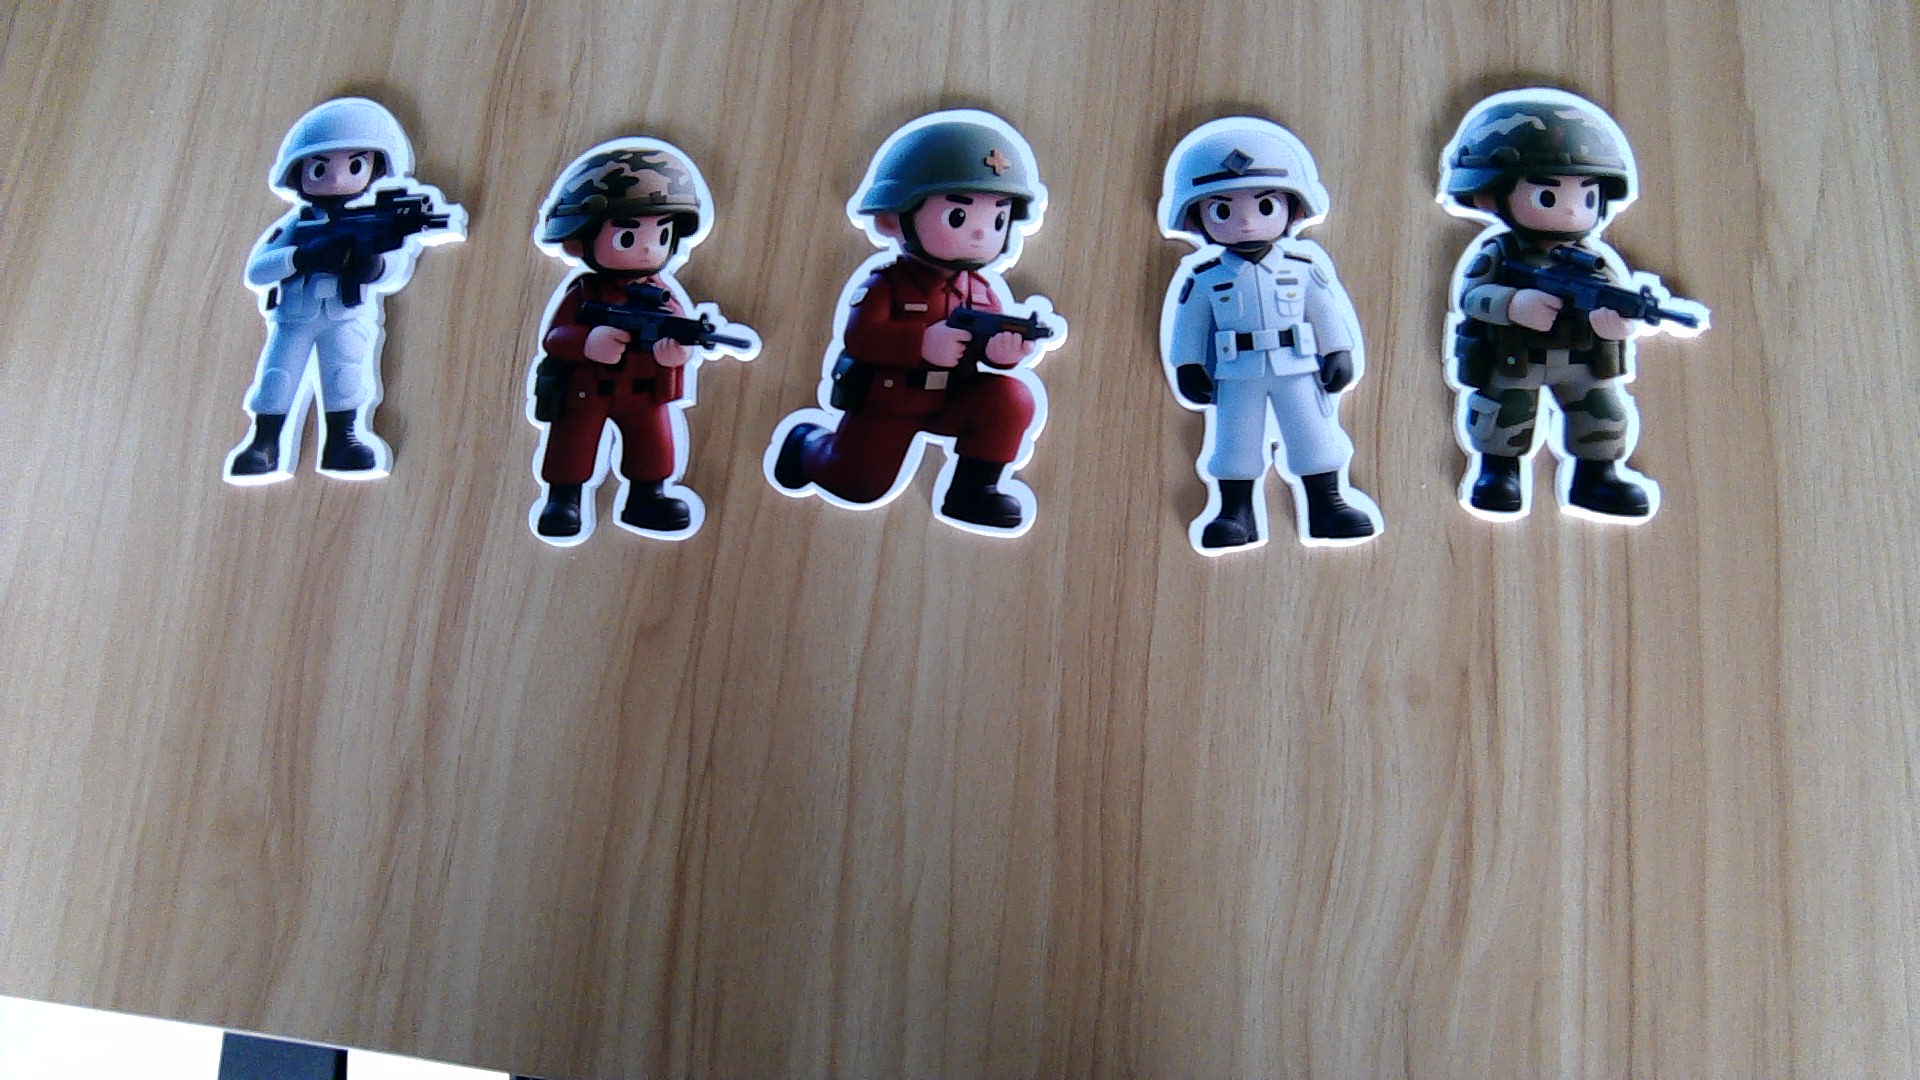人质: (1149, 249, 1389, 558), (215, 200, 464, 487)
友军: (1439, 247, 1709, 531)
敌人1: (764, 270, 1073, 543), (521, 276, 749, 549)
